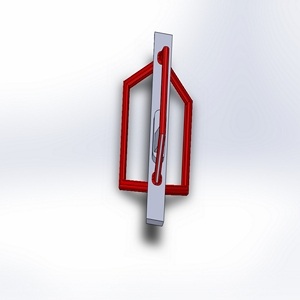submarine: (112, 21, 200, 240)
